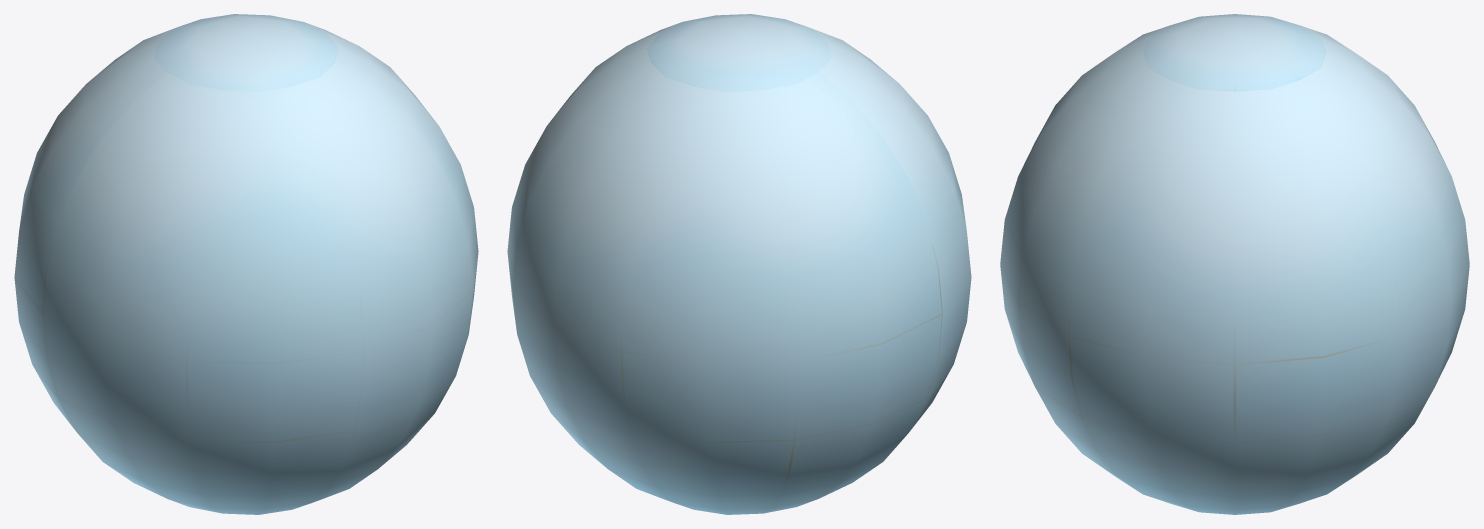
File: SM_Realistic.fbx
3 views of the same model, side by side, from view 1: azimuth 30°, elevation 25°; view 2: azimuth 150°, elevation 25°; view 3: azimuth 270°, elevation 25° (orthographic).
Parts seen in each view (by area): view 1: pSphere1; view 2: pSphere1; view 3: pSphere1.
Boxes of the visible parts, left/top/right/bottom form: pSphere1: left=14, top=14, right=478, bottom=514; pSphere1: left=507, top=14, right=971, bottom=514; pSphere1: left=1000, top=14, right=1469, bottom=514.
Size of the model in its own units: 1.82 by 1.97 by 1.82.
Materials: 1 (1 with a texture image).
